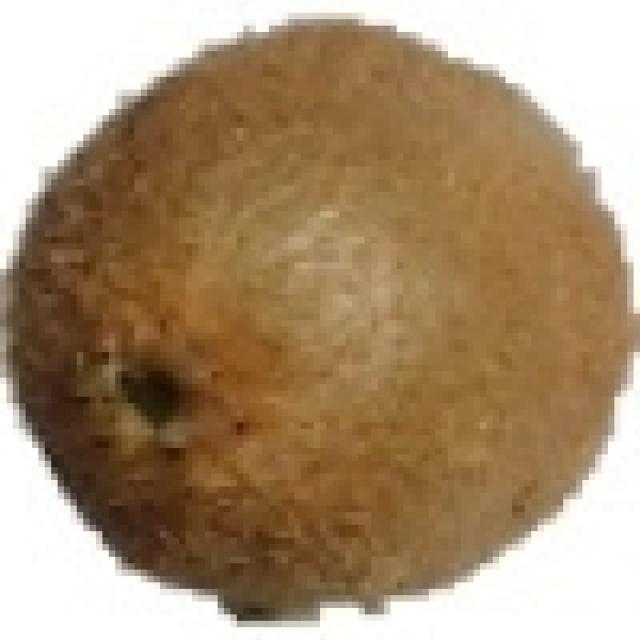kiwi: (26, 13, 634, 602)
